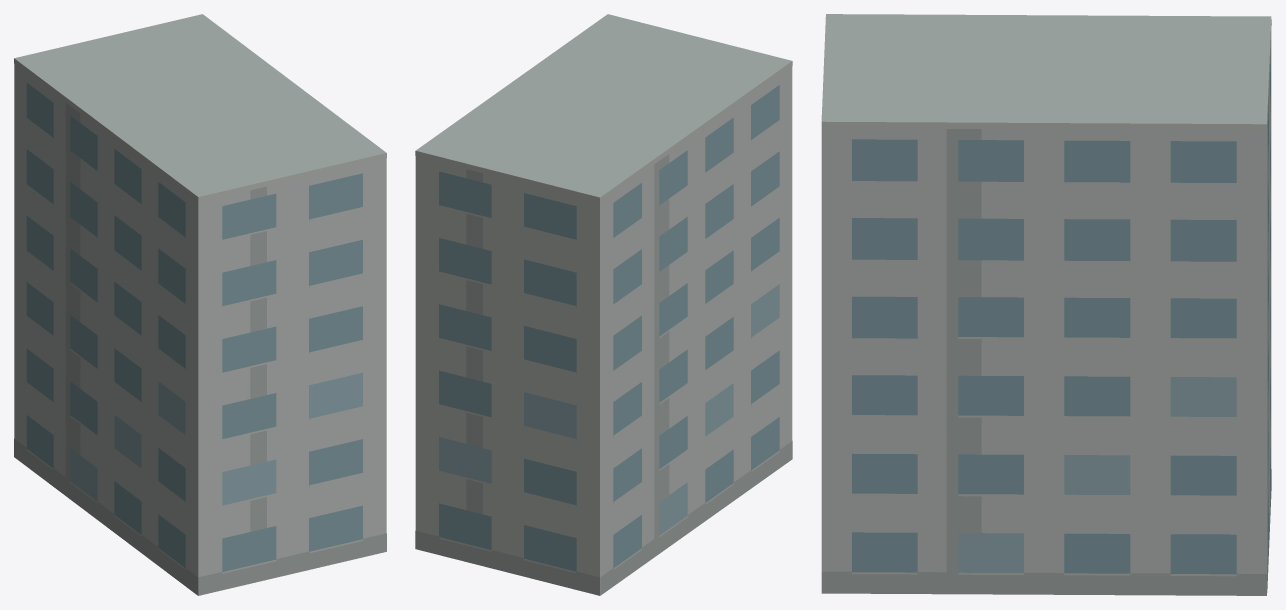
The model's file is survey-upis-32942113.glb.
3 renders of one model, left to right at view 1: azimuth 30°, elevation 25°; view 2: azimuth 150°, elevation 25°; view 3: azimuth 270°, elevation 25°, orthographic. The views are drawn at different scales.
Parts seen in each view (by area): view 1: survey-upis-32942113.tmp; view 2: survey-upis-32942113.tmp; view 3: survey-upis-32942113.tmp.
Boxes of the visible parts, x1,y1,x2,y2 form: survey-upis-32942113.tmp: (14, 14, 386, 595); survey-upis-32942113.tmp: (415, 14, 792, 595); survey-upis-32942113.tmp: (821, 14, 1271, 595).
Size of the model in its own units: 8.98 by 17.9 by 15.49.
